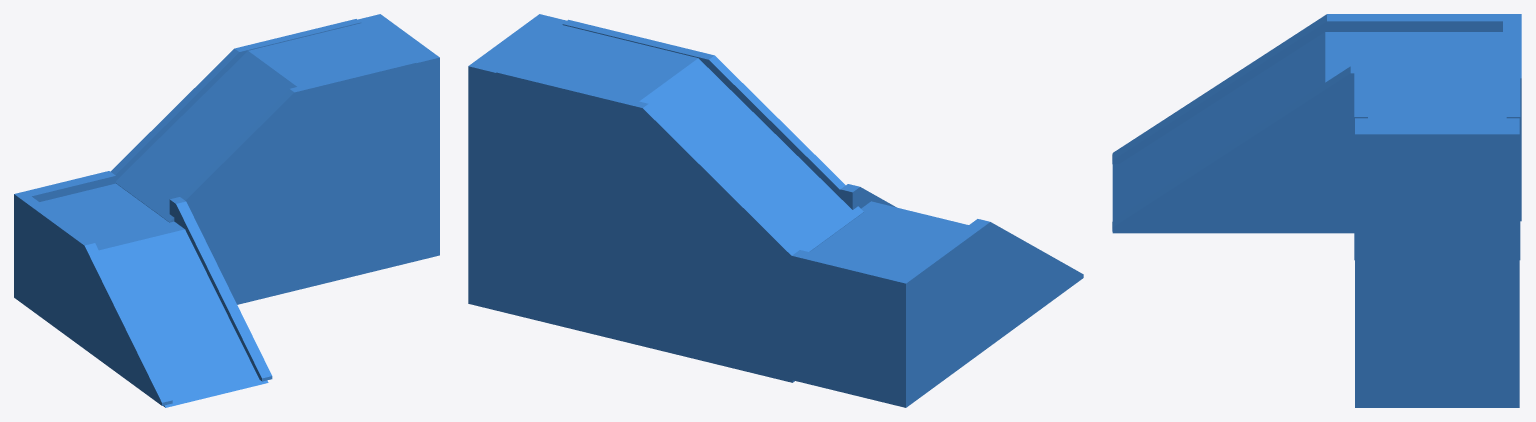
The model's file is Collision_Stair_Interior_SolidCorner.fbx.
3 renders of one model, left to right at view 1: azimuth 30°, elevation 25°; view 2: azimuth 150°, elevation 25°; view 3: azimuth 270°, elevation 25°, orthographic. The views are drawn at different scales.
Parts seen in each view (by area): view 1: UCX_Stair_Interior_SolidCorner_03; view 2: UCX_Stair_Interior_SolidCorner_03; view 3: UCX_Stair_Interior_SolidCorner_03.
Boxes of the visible parts, x1=… form: UCX_Stair_Interior_SolidCorner_03: x1=14, y1=14, x2=439, y2=407; UCX_Stair_Interior_SolidCorner_03: x1=468, y1=14, x2=1083, y2=407; UCX_Stair_Interior_SolidCorner_03: x1=1112, y1=14, x2=1521, y2=407.
Bounding box in the file's own units: 584 × 304 × 410.
